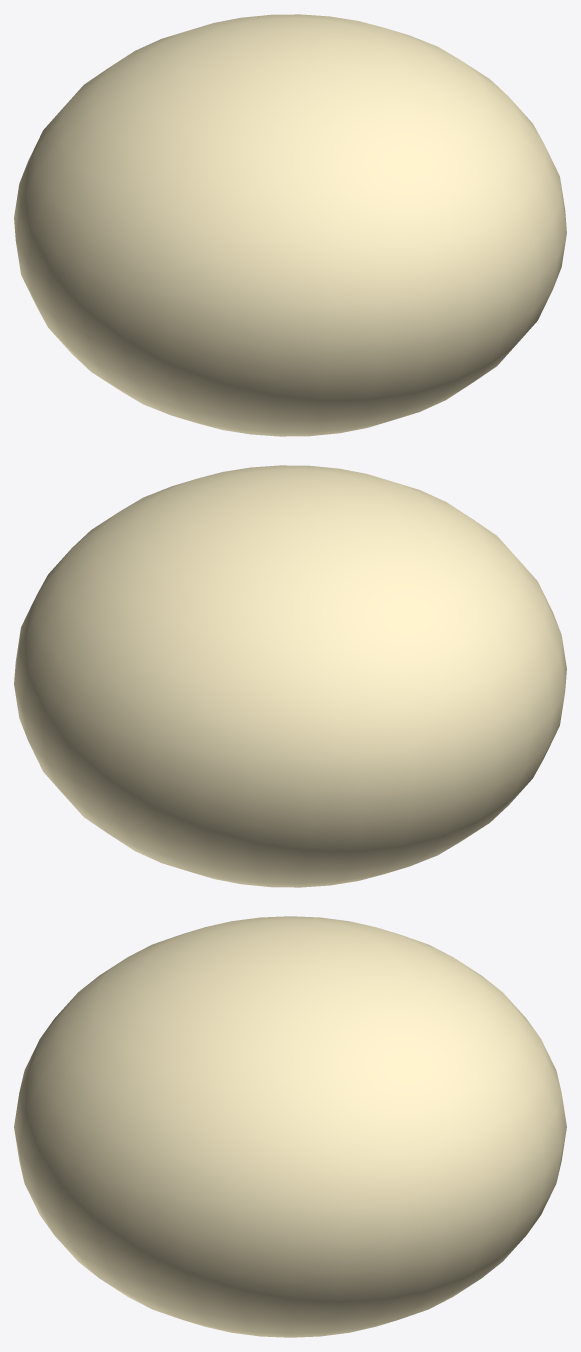
File: chicken_skin.glb
3 renders of one model, top to bottom at view 1: azimuth 30°, elevation 25°; view 2: azimuth 150°, elevation 25°; view 3: azimuth 270°, elevation 25°, orthographic.
Parts seen in each view (by area): view 1: ChickenSkin; view 2: ChickenSkin; view 3: ChickenSkin.
Boxes of the visible parts, x1,y1,x2,y2 form: ChickenSkin: (14,14,566,436); ChickenSkin: (14,465,566,887); ChickenSkin: (14,916,566,1337).
Bounding box in the file's own units: 0.2 × 0.14 × 0.2.
